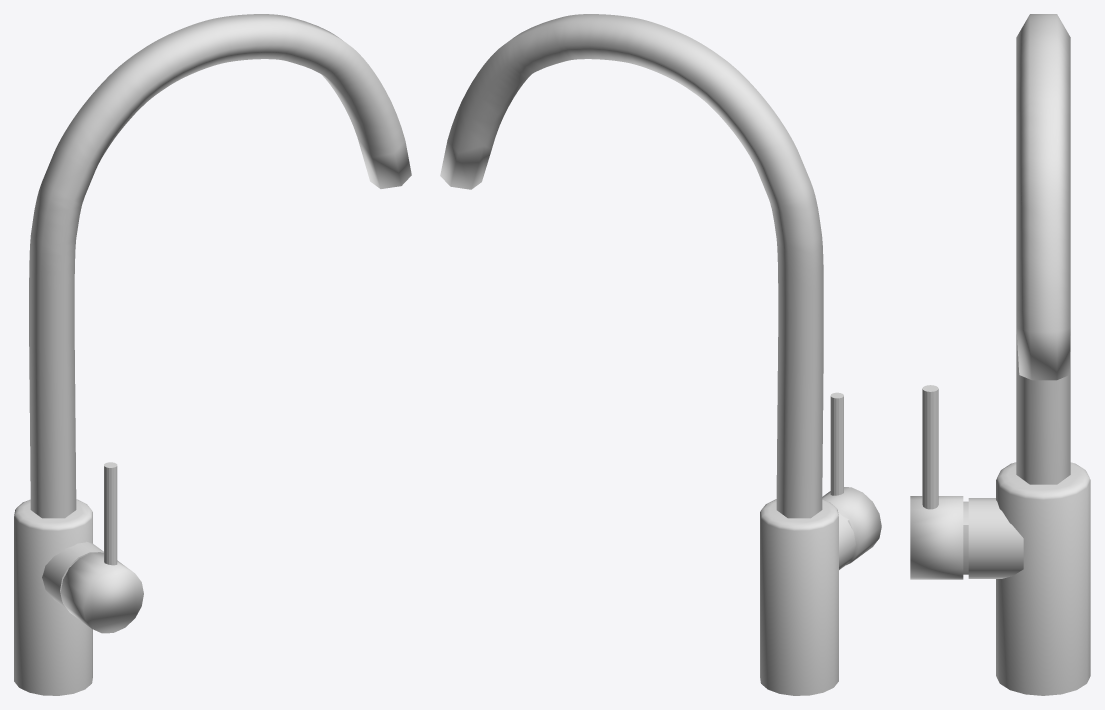
File: faucet_renend.glb
3 views of the same model, side by side, from view 1: azimuth 30°, elevation 25°; view 2: azimuth 150°, elevation 25°; view 3: azimuth 270°, elevation 25° (orthographic). The views are drawn at different scales.
Parts seen in each view (by area): view 1: Object_4; view 2: Object_4; view 3: Object_4.
Boxes of the visible parts, x1,y1,x2,y2 form: Object_4: [14, 14, 411, 695]; Object_4: [440, 14, 881, 695]; Object_4: [910, 14, 1090, 695].
Bounding box in the file's own units: 0.6911 × 1.05 × 0.2342.
Materials: 1 (1 with a texture image).
